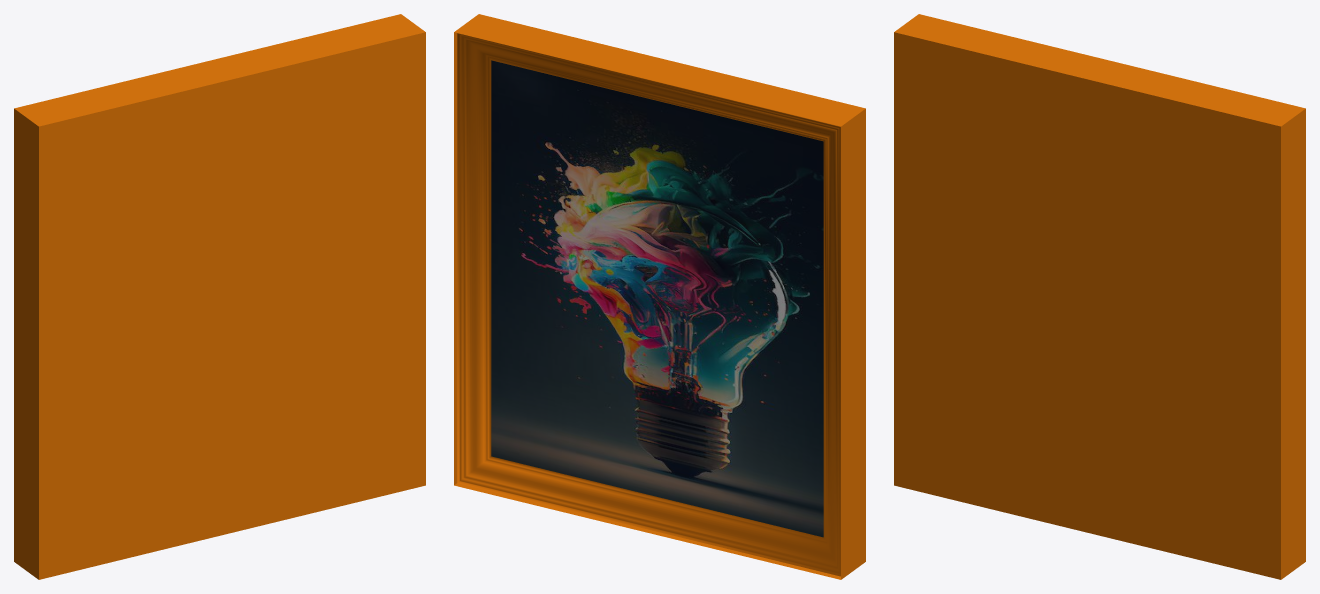
3 views of the same model, side by side, from view 1: azimuth 30°, elevation 25°; view 2: azimuth 150°, elevation 25°; view 3: azimuth 330°, elevation 25° (orthographic).
Visible parts, largest first — view 1: Cube; view 2: Cube; view 3: Cube.
Part boxes in pixels (x1,y1,x2,y2): Cube: (14, 14, 425, 579); Cube: (454, 14, 865, 579); Cube: (894, 14, 1305, 579).
Size of the model in its own units: 2 by 2.24 by 0.2224.
Materials: 2 (1 with a texture image).
